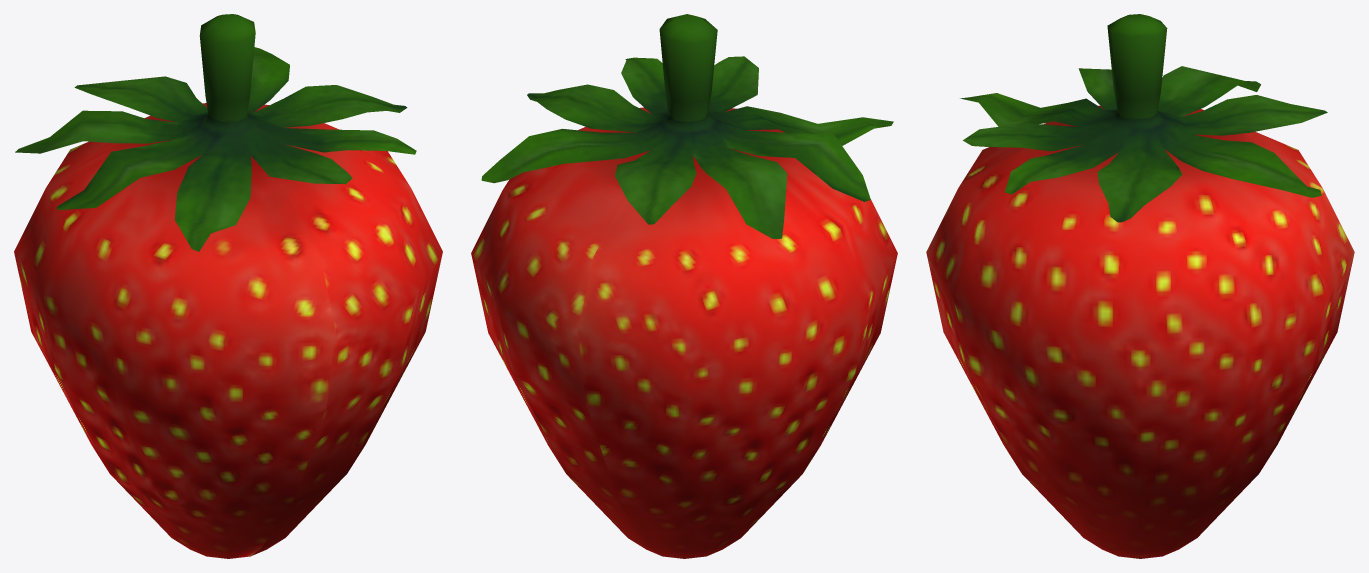
File: strawberry.fbx
3 renders of one model, left to right at view 1: azimuth 30°, elevation 25°; view 2: azimuth 150°, elevation 25°; view 3: azimuth 270°, elevation 25°, orthographic.
Visible parts, largest first — view 1: strawberry; view 2: strawberry; view 3: strawberry.
Boxes of the visible parts, x1=… form: strawberry: x1=14, y1=14, x2=442, y2=558; strawberry: x1=471, y1=14, x2=897, y2=558; strawberry: x1=926, y1=14, x2=1354, y2=558.
Size of the model in its own units: 30.04 by 41.24 by 30.04.
